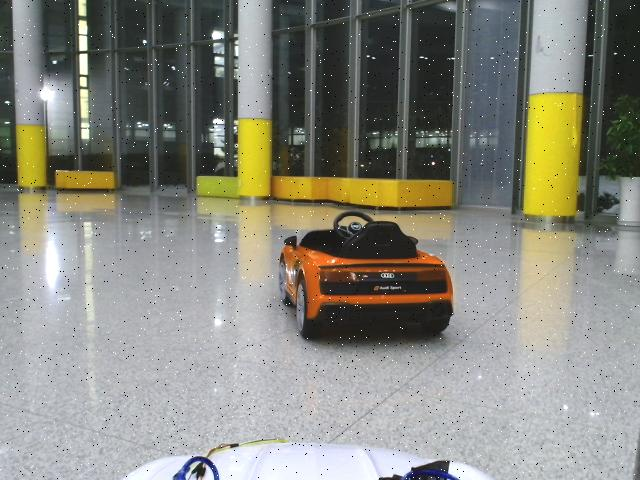car: (277, 211, 455, 337)
